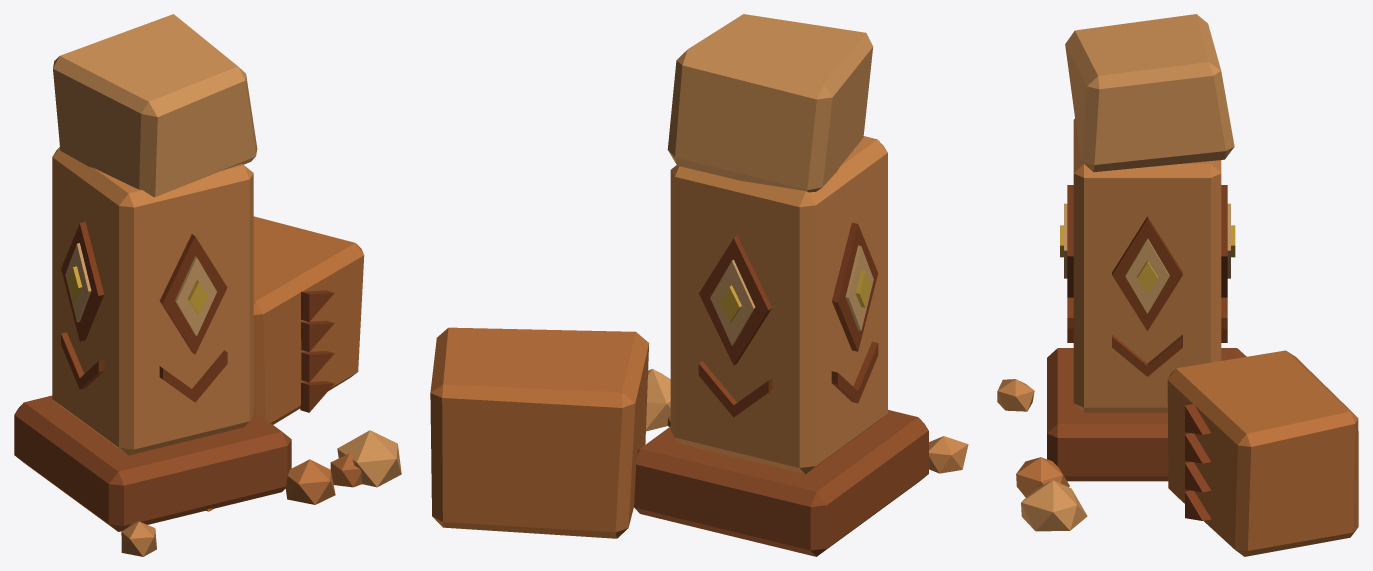
File: decor_2.fbx
3 views of the same model, side by side, from view 1: azimuth 30°, elevation 25°; view 2: azimuth 150°, elevation 25°; view 3: azimuth 270°, elevation 25° (orthographic). The views are drawn at different scales.
Parts seen in each view (by area): view 1: decor_2; view 2: decor_2; view 3: decor_2.
Part boxes in pixels (x1,y1,x2,y2): decor_2: [14, 14, 401, 556]; decor_2: [430, 14, 968, 556]; decor_2: [997, 14, 1358, 556].
Bounding box in the file's own units: 1.89 × 2.13 × 1.71.
